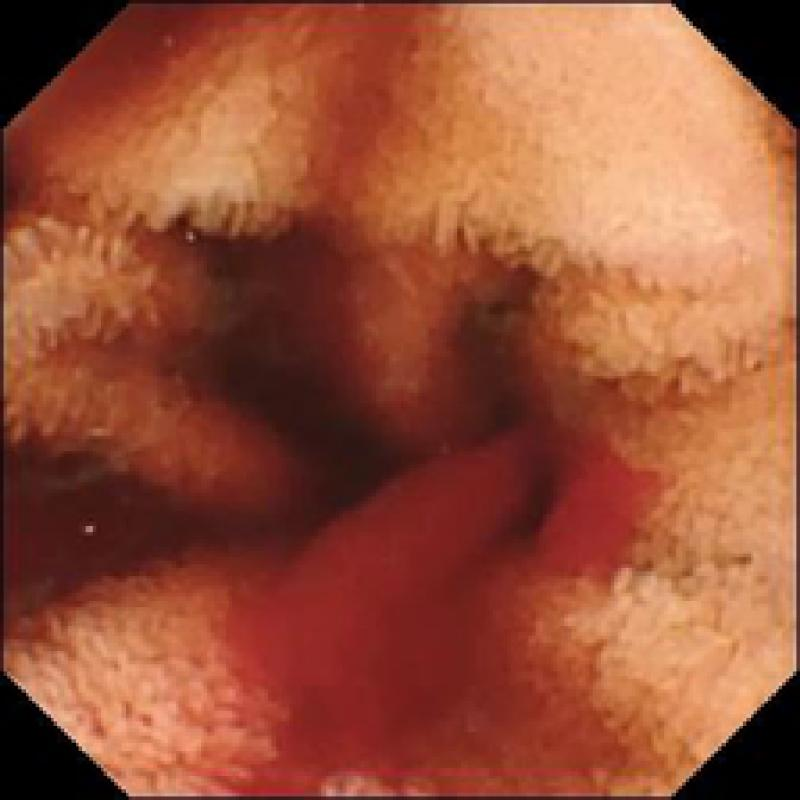bleeding: (218, 407, 653, 797)
